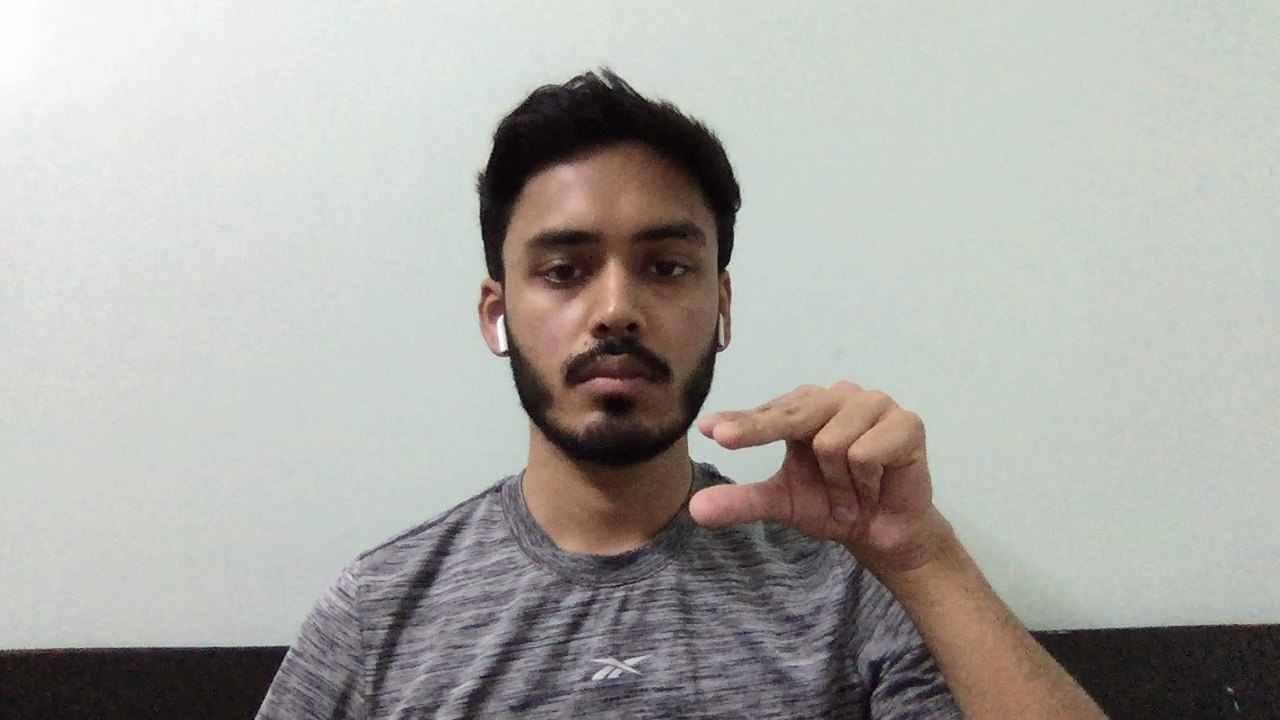No: (681, 364, 981, 560)
